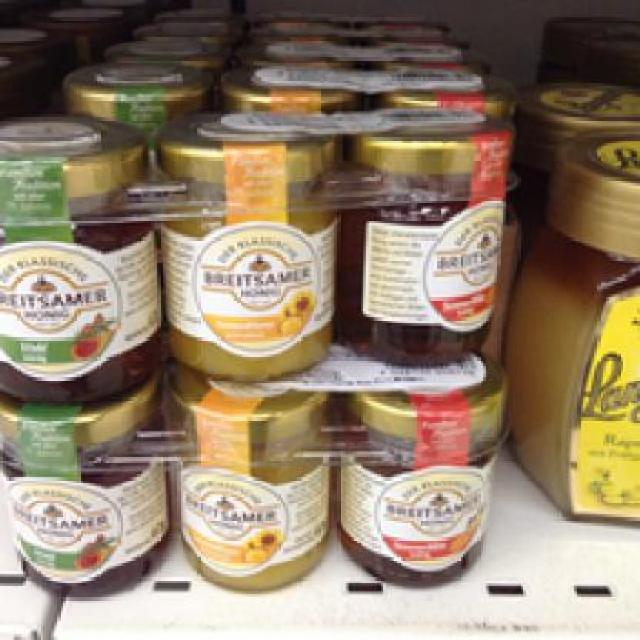Honey: (508, 126, 638, 512), (0, 106, 166, 400), (162, 109, 332, 378), (340, 126, 509, 363), (333, 372, 510, 588), (162, 383, 332, 588), (0, 396, 175, 592)
